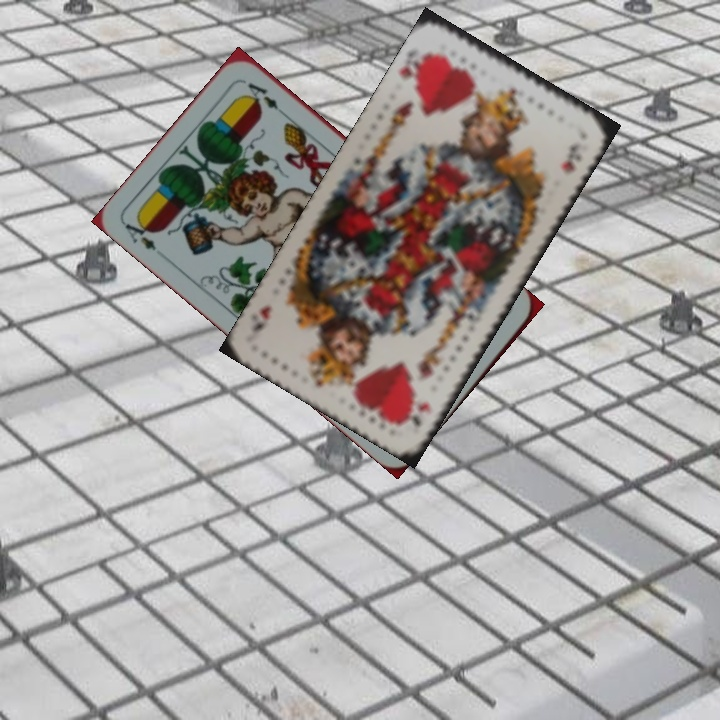EA: (121, 213, 159, 254)
HK: (399, 399, 434, 437), (394, 58, 421, 91)
